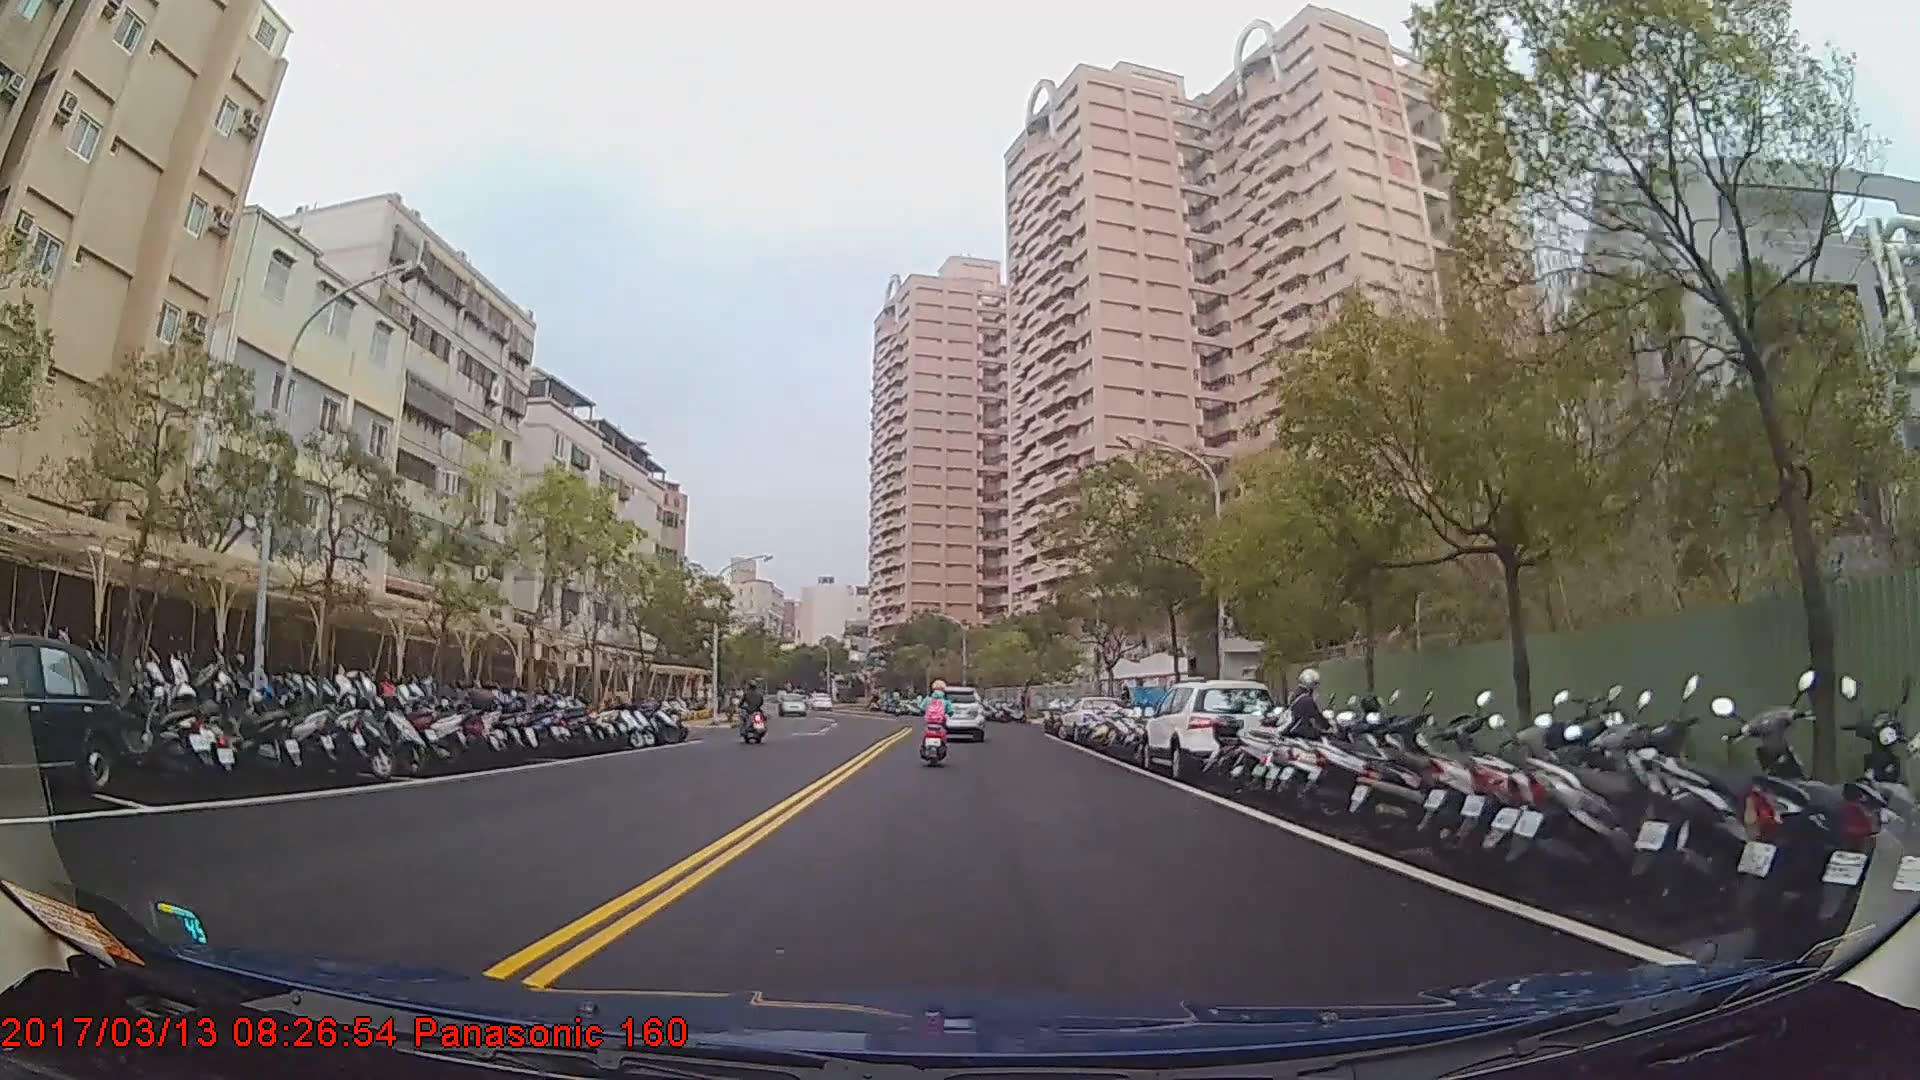rider: (920, 678, 956, 771), (736, 681, 770, 746)
vehicle: (0, 633, 120, 801), (1138, 679, 1278, 781), (1054, 693, 1130, 742), (926, 684, 984, 740), (775, 692, 807, 715)
